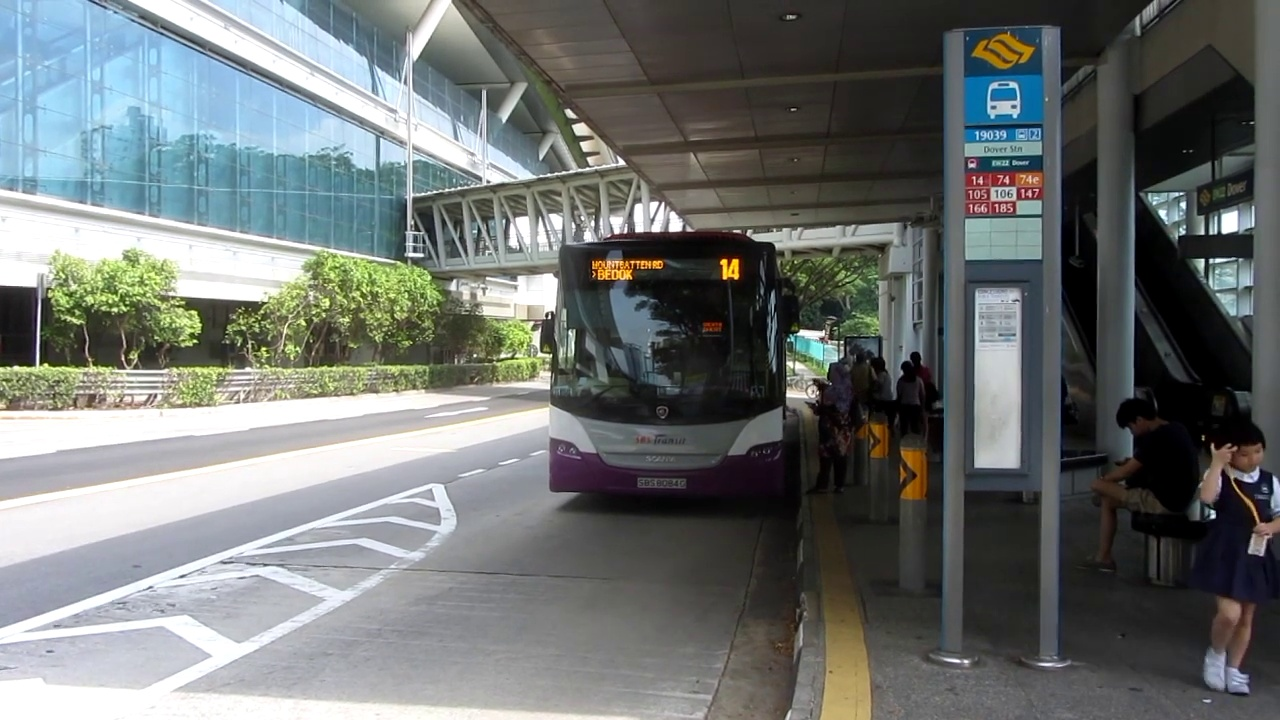bus panel: (587, 256, 746, 283)
